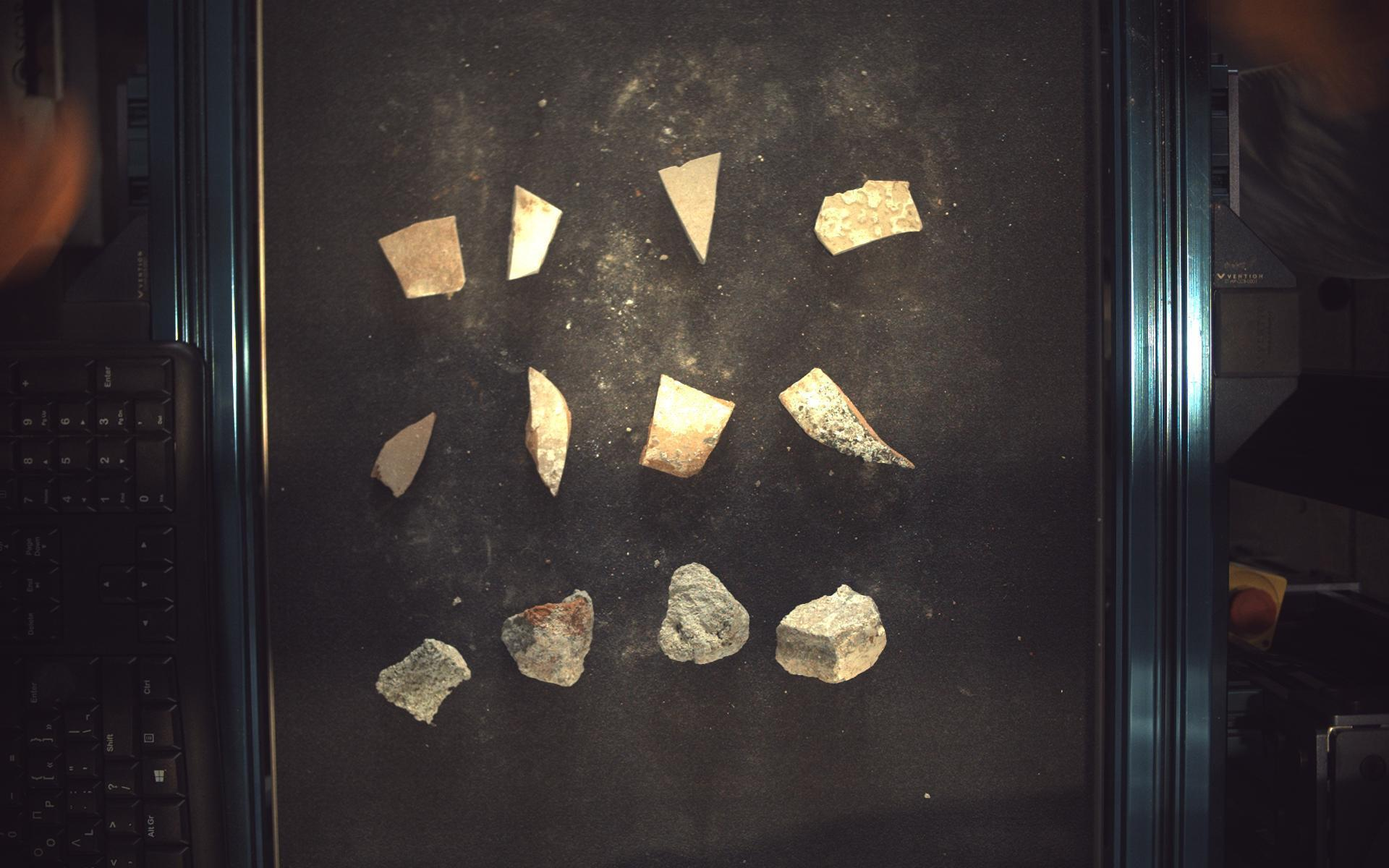brick: (781, 368, 916, 469), (640, 375, 736, 478), (526, 367, 572, 497), (371, 412, 436, 498)
concrete: (777, 585, 888, 684), (659, 563, 751, 665), (502, 590, 595, 688), (375, 639, 471, 725)
tile: (816, 179, 925, 255), (378, 215, 464, 298), (660, 152, 721, 263), (508, 184, 563, 279)
